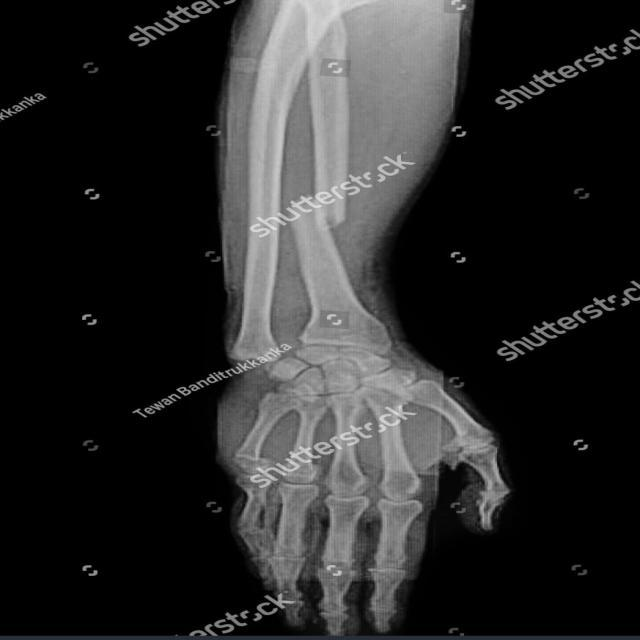bone: (189, 264, 243, 353)
